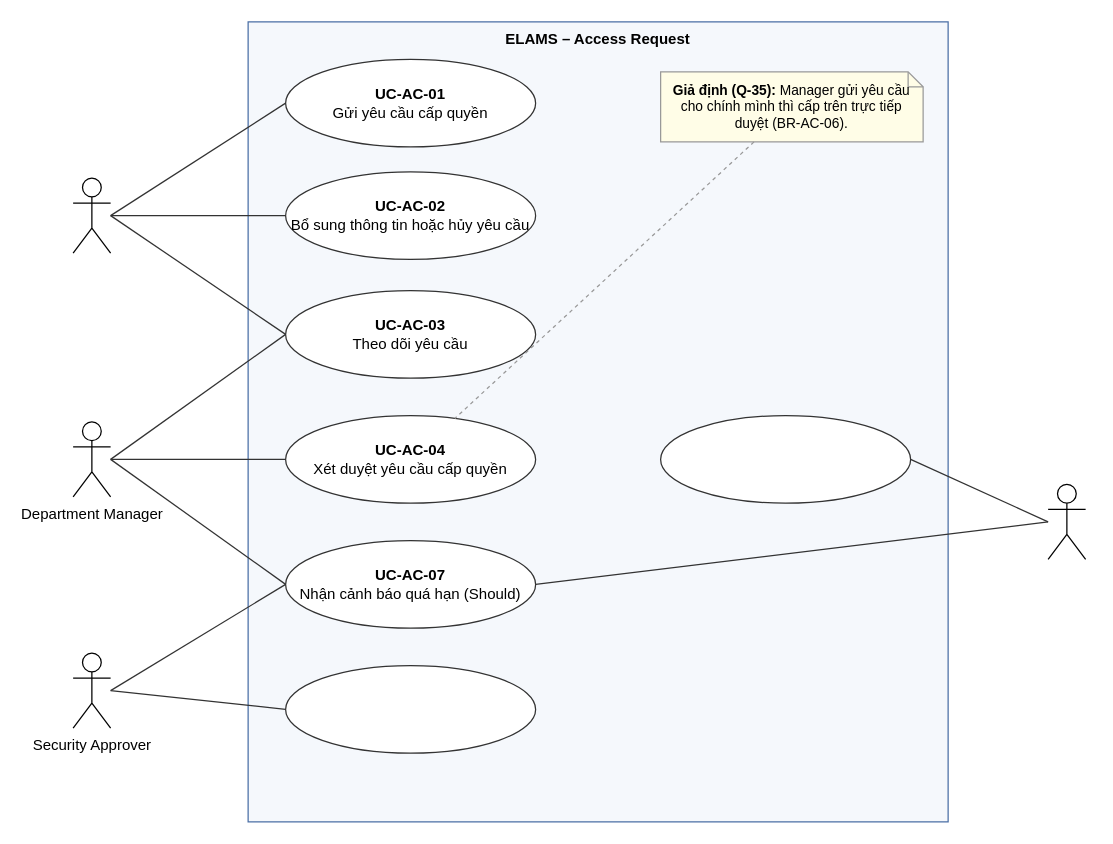
The diagram is 1113 pixels wide and 844 high, and some of its shapes have lost their labels. The box of each missing label's shape, as (x1, y1, x2, y2) in pixels:
Employee (người yêu cầu): (72, 177, 111, 253)
IT Staff: (1047, 483, 1086, 559)
UC-AC-05 Xét duyệt quyền nhạy cảm: (284, 664, 536, 753)
UC-AC-06 Cấp quyền và ghi kết quả: (659, 414, 911, 503)
